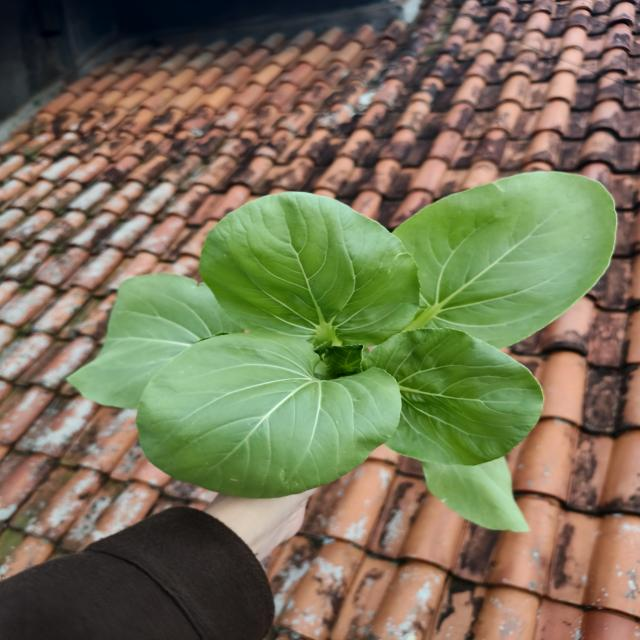daun-pakcoy: (137, 331, 400, 498), (394, 170, 618, 349), (200, 192, 419, 346), (355, 328, 543, 465), (67, 273, 242, 409), (400, 445, 541, 532)
